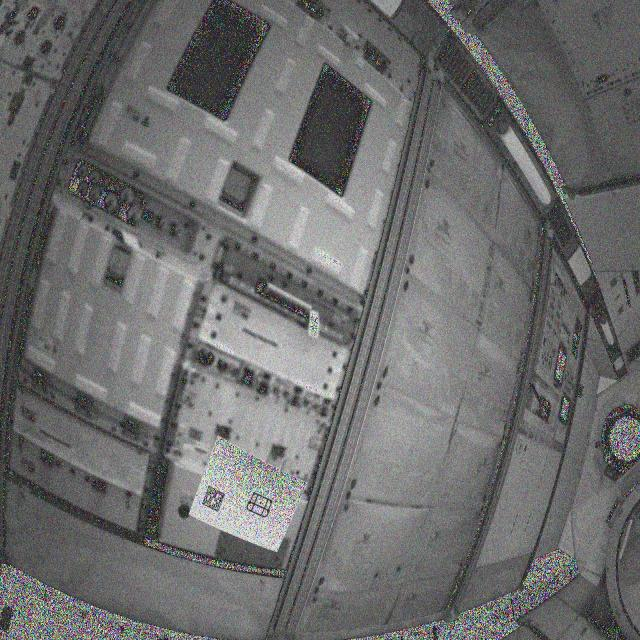treasure_box: (247, 490, 275, 520)
